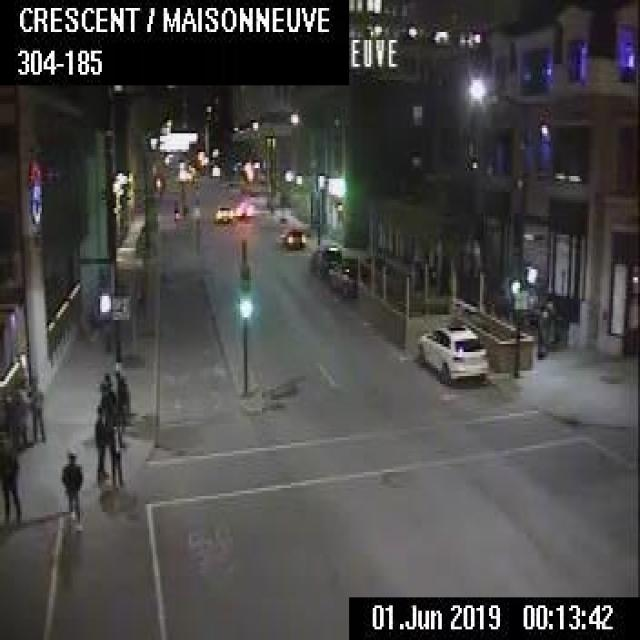pedestrian: (0, 429, 22, 528), (59, 448, 83, 531), (92, 402, 109, 485), (108, 407, 124, 490), (114, 368, 130, 444), (98, 369, 114, 443)
vehicle: (416, 321, 489, 384), (328, 255, 374, 297), (309, 242, 341, 275), (282, 227, 306, 248), (214, 202, 232, 222), (235, 200, 251, 216)
